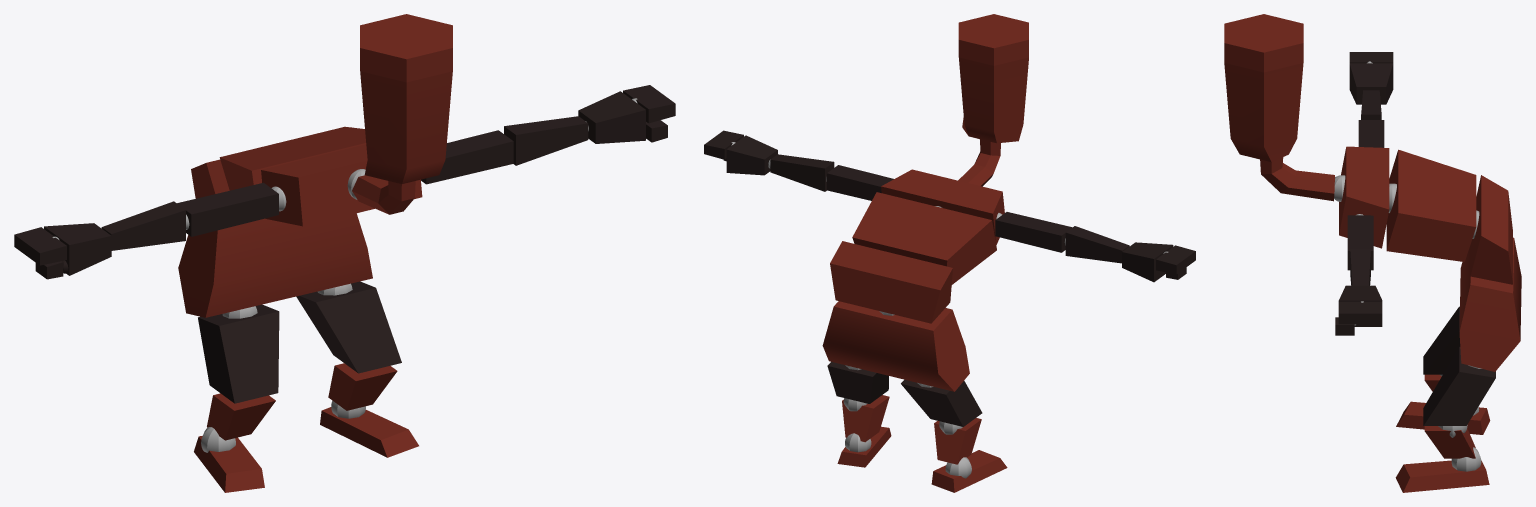
The model's file is Enemy WB.fbx.
3 renders of one model, left to right at view 1: azimuth 30°, elevation 25°; view 2: azimuth 150°, elevation 25°; view 3: azimuth 270°, elevation 25°, orthographic. The views are drawn at different scales.
Parts seen in each view (by area): view 1: Enemy_Geo; view 2: Enemy_Geo; view 3: Enemy_Geo.
Part boxes in pixels (bbox=[...]): Enemy_Geo: bbox=[14, 14, 675, 492]; Enemy_Geo: bbox=[704, 14, 1195, 492]; Enemy_Geo: bbox=[1224, 14, 1521, 492].
Size of the model in its own units: 13.01 by 9.74 by 6.23.
